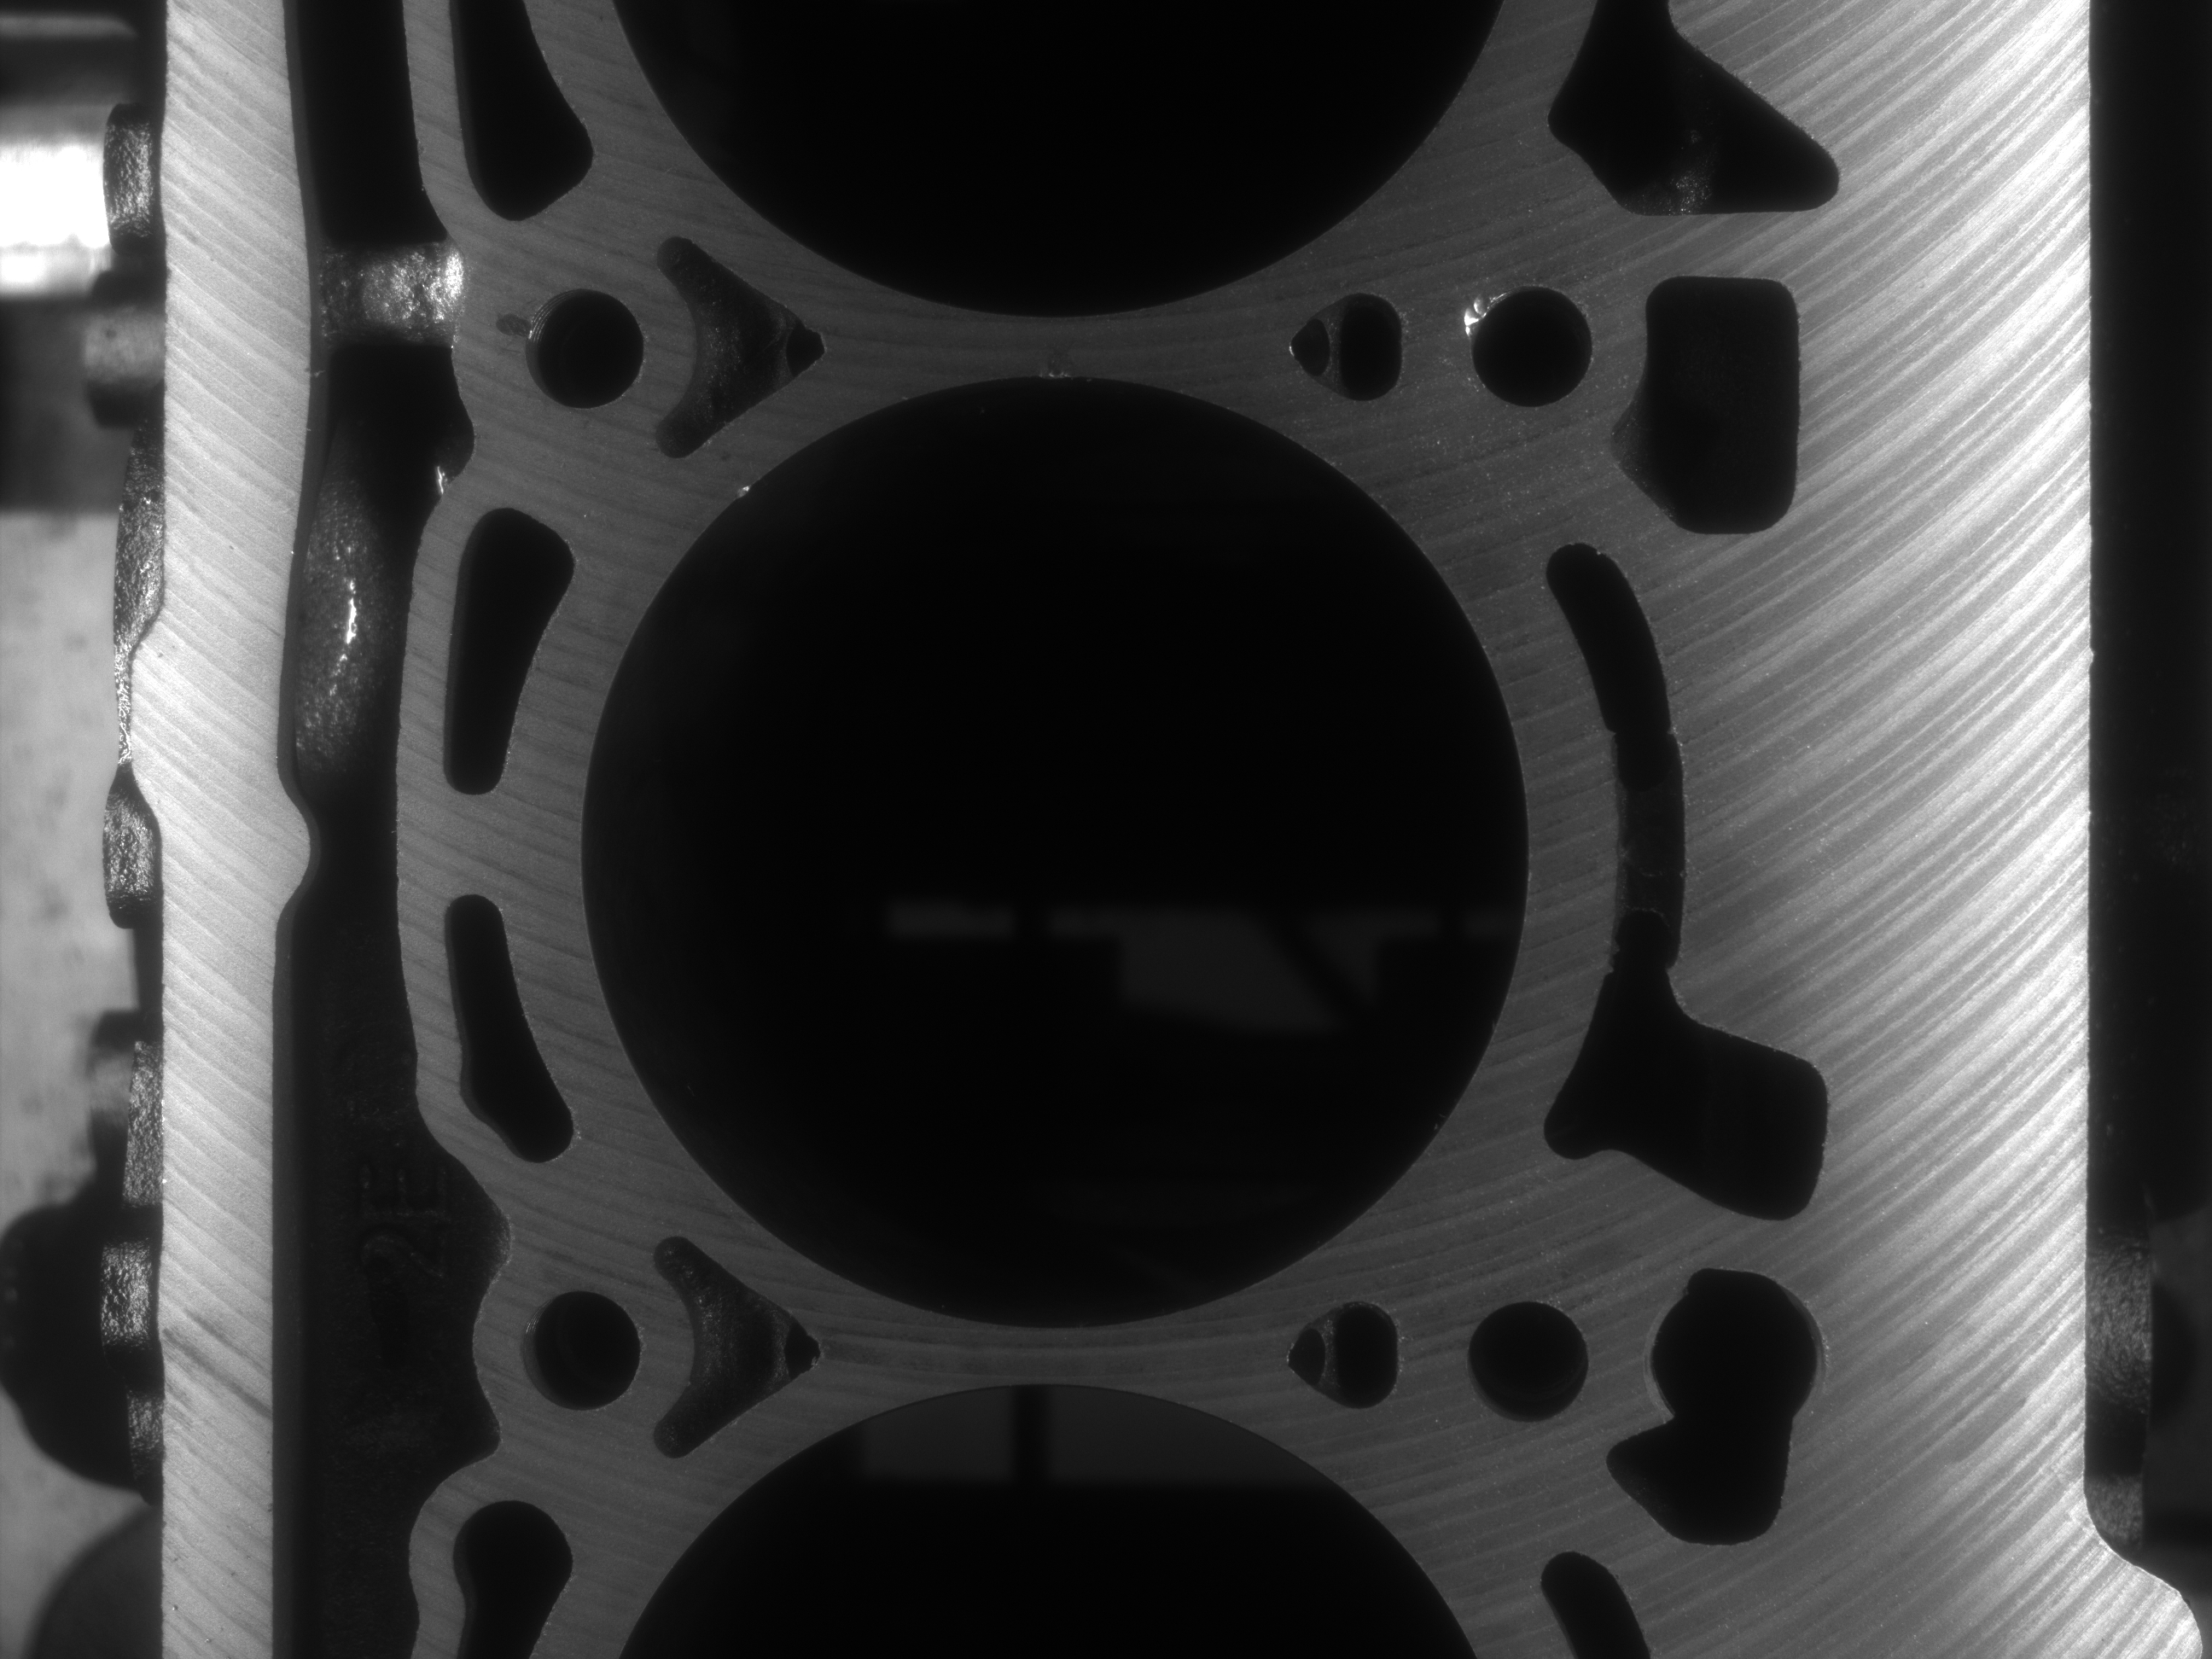sandhole: (493, 298, 535, 345)
shrinkage: (1458, 284, 1524, 317)
